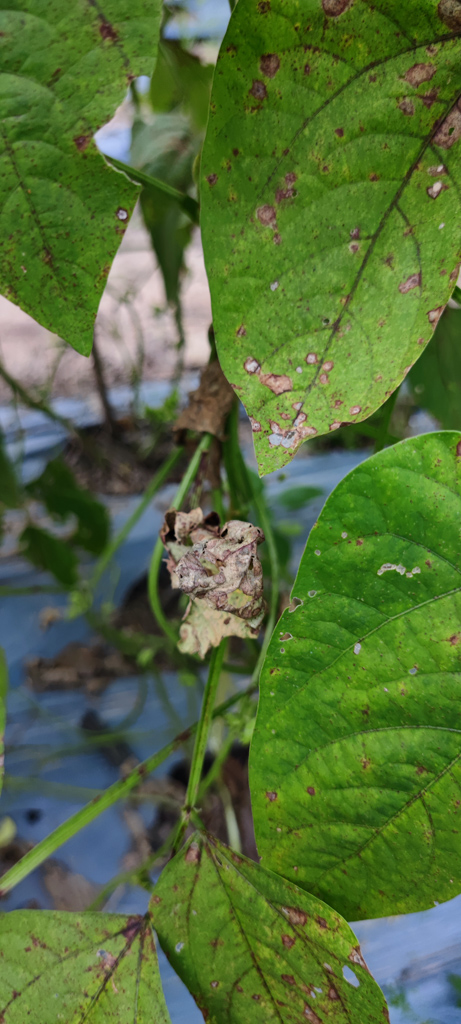Rust: (203, 8, 456, 472), (247, 418, 449, 931), (5, 4, 160, 361), (140, 828, 396, 1019), (6, 904, 172, 1019)
